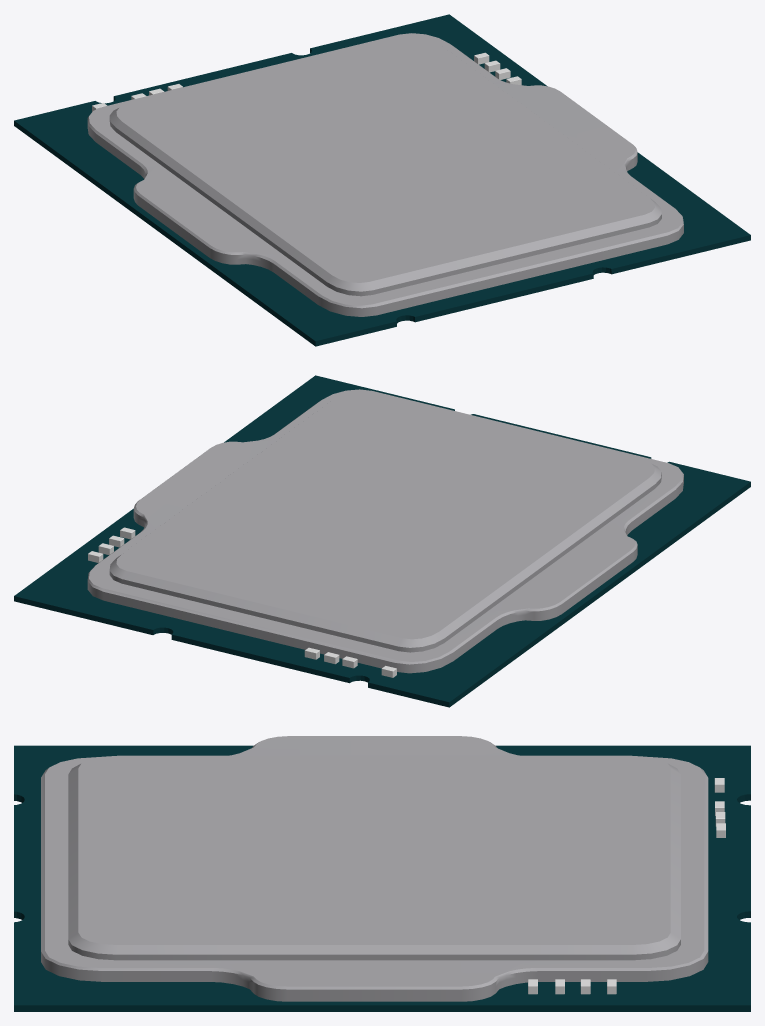
The model's file is CPU_INTEL.fbx.
3 renders of one model, top to bottom at view 1: azimuth 30°, elevation 25°; view 2: azimuth 150°, elevation 25°; view 3: azimuth 270°, elevation 25°, orthographic. The views are drawn at different scales.
Visible parts, largest first — view 1: CPU_ARCHIVE; view 2: CPU_ARCHIVE; view 3: CPU_ARCHIVE.
Part boxes in pixels (x1,y1,x2,y2): CPU_ARCHIVE: [14, 14, 750, 346]; CPU_ARCHIVE: [14, 375, 750, 707]; CPU_ARCHIVE: [14, 736, 750, 1011].
Size of the model in its own units: 262 by 19.15 by 315.
